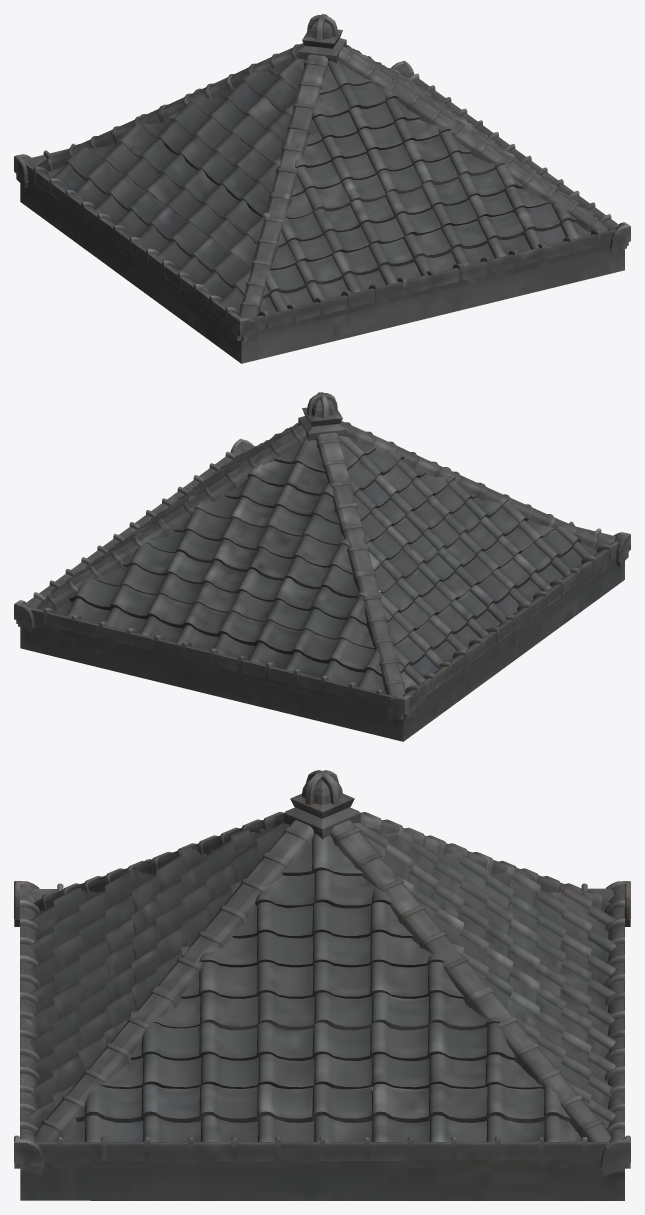
Rendered from Architecture_JapaneseStyle_PyramidRoof_bf991b.glb.
3 views of the same model, one above another, from view 1: azimuth 30°, elevation 25°; view 2: azimuth 150°, elevation 25°; view 3: azimuth 270°, elevation 25° (orthographic). The views are drawn at different scales.
Bounding box in the file's own units: 4.1 × 2.21 × 4.1.
1 material, 1 textured.
